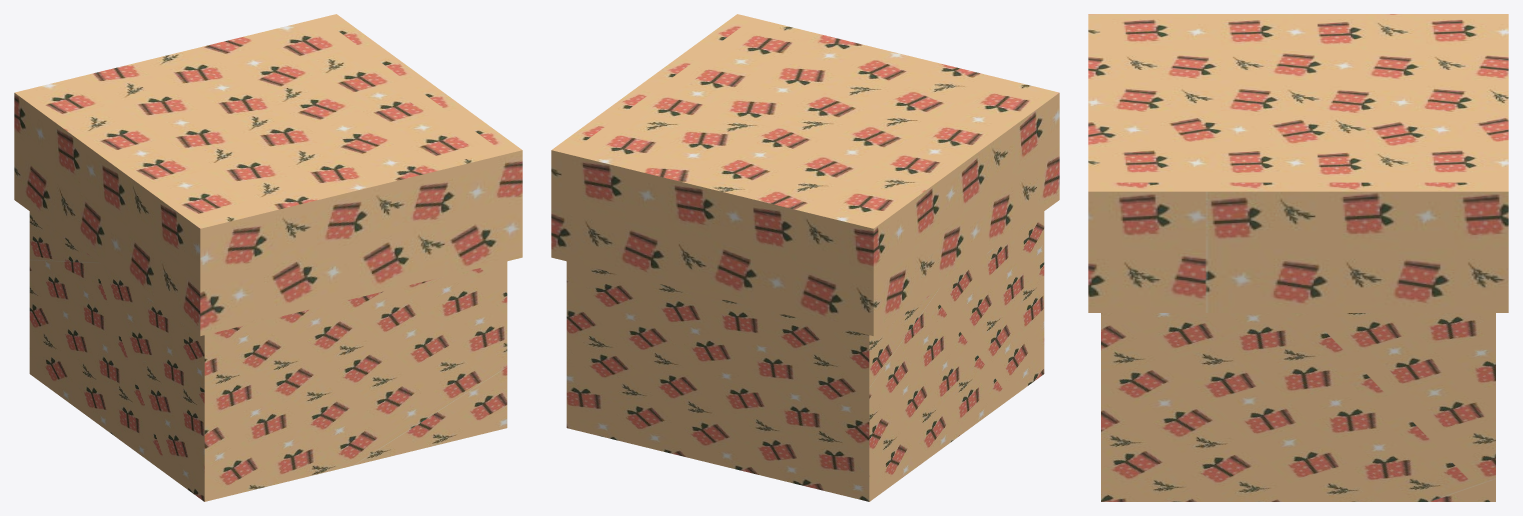
Rendered from gift_box.glb.
The picture shows the model from 3 angles, left to right: view 1: azimuth 30°, elevation 25°; view 2: azimuth 150°, elevation 25°; view 3: azimuth 270°, elevation 25°; orthographic projection. The views are drawn at different scales.
Parts seen in each view (by area): view 1: Plane.001, Plane; view 2: Plane.001, Plane; view 3: Plane.001, Plane.
Boxes of the visible parts, x1,y1,x2,y2 form: Plane.001: (14,14,522,335); Plane: (29,211,507,501); Plane.001: (551,14,1059,335); Plane: (566,211,1044,501); Plane.001: (1088,14,1508,312); Plane: (1101,313,1495,501).
Size of the model in its own units: 0.1734 by 0.1438 by 0.1734.
2 materials, 2 textured.
